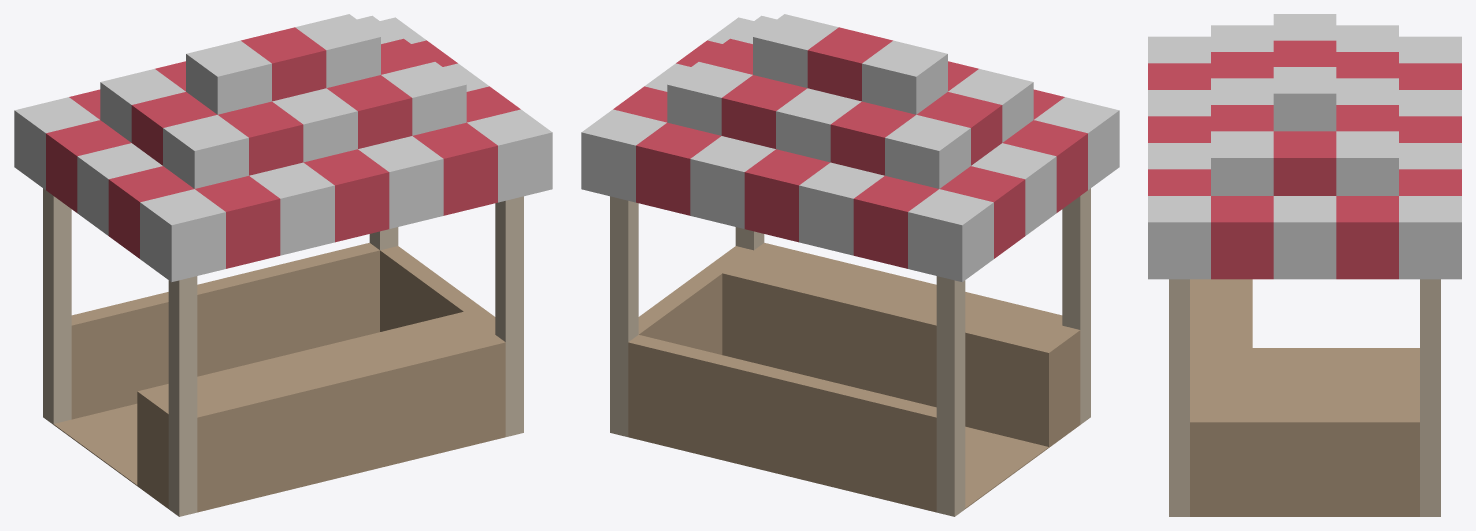
File: marketstall_1.glb
3 views of the same model, side by side, from view 1: azimuth 30°, elevation 25°; view 2: azimuth 150°, elevation 25°; view 3: azimuth 270°, elevation 25° (orthographic).
Parts seen in each view (by area): view 1: Mesh_Mesh_head_geo.001_lambert2SG.001; view 2: Mesh_Mesh_head_geo.001_lambert2SG.001; view 3: Mesh_Mesh_head_geo.001_lambert2SG.001.
Part boxes in pixels (<box>): Mesh_Mesh_head_geo.001_lambert2SG.001: <box>14,14,552,516</box>; Mesh_Mesh_head_geo.001_lambert2SG.001: <box>581,14,1119,516</box>; Mesh_Mesh_head_geo.001_lambert2SG.001: <box>1148,14,1461,516</box>.
Size of the model in its own units: 21 by 20 by 15.
